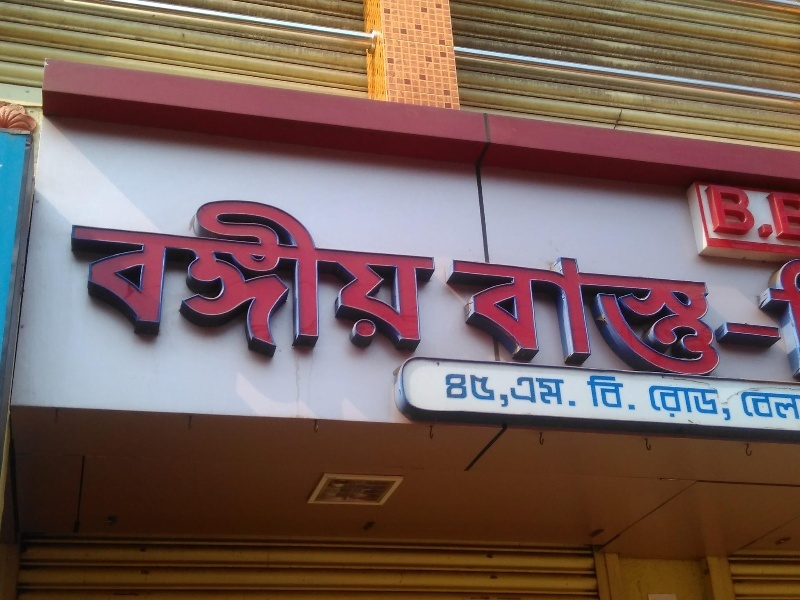text: (81, 182, 96, 366), (97, 182, 112, 366), (113, 182, 128, 366), (129, 182, 144, 366), (145, 182, 160, 366), (161, 182, 176, 366), (177, 182, 192, 366), (193, 182, 208, 366), (209, 182, 224, 366), (225, 182, 240, 366), (241, 182, 256, 366), (257, 182, 272, 366), (273, 182, 288, 366), (289, 182, 304, 366), (305, 182, 320, 366), (321, 182, 336, 366), (337, 182, 352, 366), (353, 182, 368, 366), (369, 182, 384, 366), (385, 182, 400, 366), (401, 182, 416, 366), (417, 182, 432, 366), (449, 237, 464, 380), (465, 237, 480, 380), (481, 237, 496, 380), (497, 237, 512, 380), (513, 237, 528, 380), (529, 237, 544, 380), (545, 237, 560, 380), (561, 237, 576, 380), (577, 237, 592, 380), (593, 237, 608, 380), (609, 237, 624, 380), (625, 237, 640, 380), (641, 237, 656, 380), (657, 237, 672, 380), (673, 237, 688, 380), (689, 237, 704, 380), (705, 237, 720, 380), (721, 237, 736, 380), (737, 237, 752, 380), (753, 237, 768, 380), (769, 237, 784, 380), (769, 254, 784, 386), (785, 254, 800, 386), (433, 182, 441, 366), (785, 237, 795, 380), (73, 182, 80, 366), (439, 237, 448, 380), (761, 254, 768, 386), (705, 181, 720, 240), (721, 181, 736, 240), (737, 181, 752, 240), (753, 181, 768, 240), (769, 192, 784, 241), (785, 192, 800, 241), (593, 370, 608, 415), (609, 370, 624, 415), (449, 371, 464, 411), (465, 371, 480, 411), (481, 371, 496, 411), (497, 371, 512, 411), (641, 382, 656, 422), (657, 382, 672, 422), (673, 382, 688, 422), (689, 382, 704, 422), (705, 382, 720, 422), (721, 382, 736, 422), (625, 370, 637, 415), (769, 181, 778, 240), (513, 376, 528, 408), (529, 376, 544, 408), (545, 376, 560, 408), (561, 376, 576, 408), (753, 391, 768, 422), (769, 391, 784, 422), (785, 391, 800, 422), (583, 370, 592, 415), (740, 391, 752, 422), (444, 371, 448, 411), (513, 371, 517, 411), (508, 376, 512, 408), (737, 382, 740, 422), (702, 181, 704, 240), (577, 376, 579, 408), (639, 382, 640, 422)
